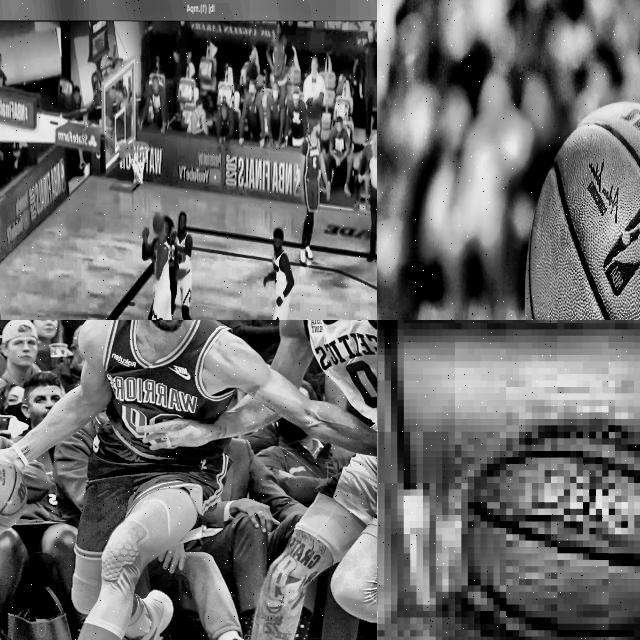Basketball: (525, 102, 640, 320), (0, 456, 26, 533), (152, 212, 163, 232)
